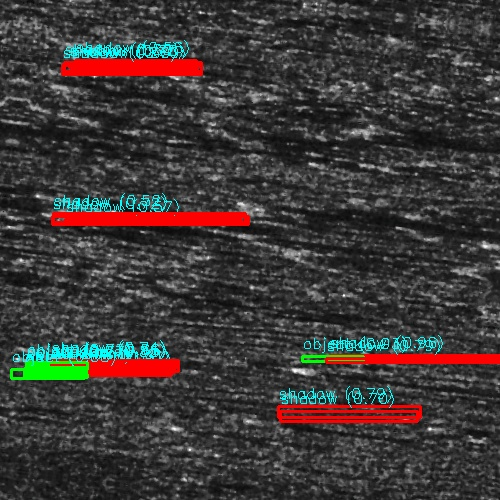rock: (28, 217, 91, 226), (256, 411, 319, 420), (23, 371, 86, 376), (50, 63, 91, 70), (304, 356, 357, 361)
shadow: (60, 217, 247, 226), (288, 411, 413, 420), (71, 63, 201, 70), (331, 356, 500, 361), (55, 371, 172, 376)
